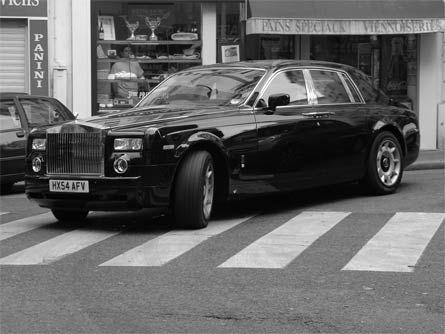car: (13, 48, 442, 257)
